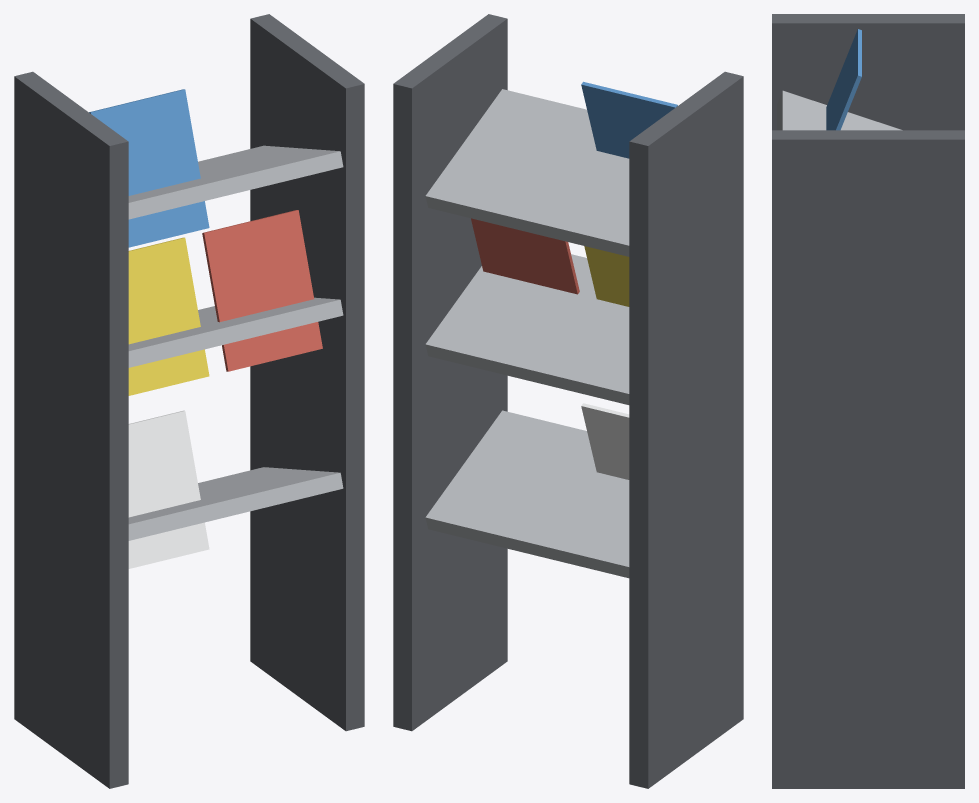
The model's file is solar-system-and-astronauts-brochure-stand-167bd36f.glb.
3 renders of one model, left to right at view 1: azimuth 30°, elevation 25°; view 2: azimuth 150°, elevation 25°; view 3: azimuth 270°, elevation 25°, orthographic.
Parts seen in each view (by area): view 1: brochure-stand; view 2: brochure-stand; view 3: brochure-stand.
Boxes of the visible parts, bbox=[...] form: brochure-stand: bbox=[14, 14, 364, 788]; brochure-stand: bbox=[393, 14, 743, 788]; brochure-stand: bbox=[772, 14, 964, 788].
Bounding box in the file's own units: 0.5399 × 1.3 × 0.35.
